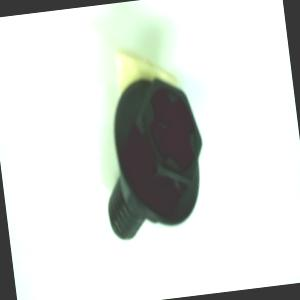parafuso: (88, 64, 216, 247), (91, 71, 214, 244)
